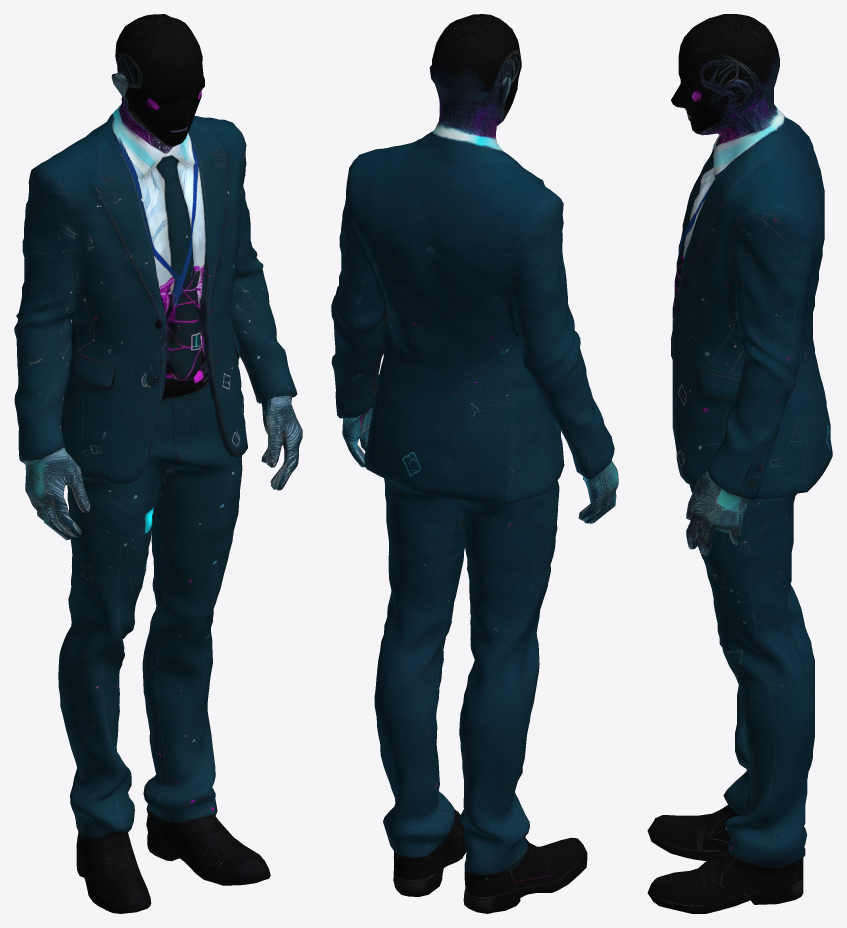
Rendered from null-specter.glb.
3 renders of one model, left to right at view 1: azimuth 30°, elevation 25°; view 2: azimuth 150°, elevation 25°; view 3: azimuth 270°, elevation 25°, orthographic.
Bounding box in the file's own units: 0.6301 × 1.91 × 0.3718.
Materials: 1 (1 with a texture image).
